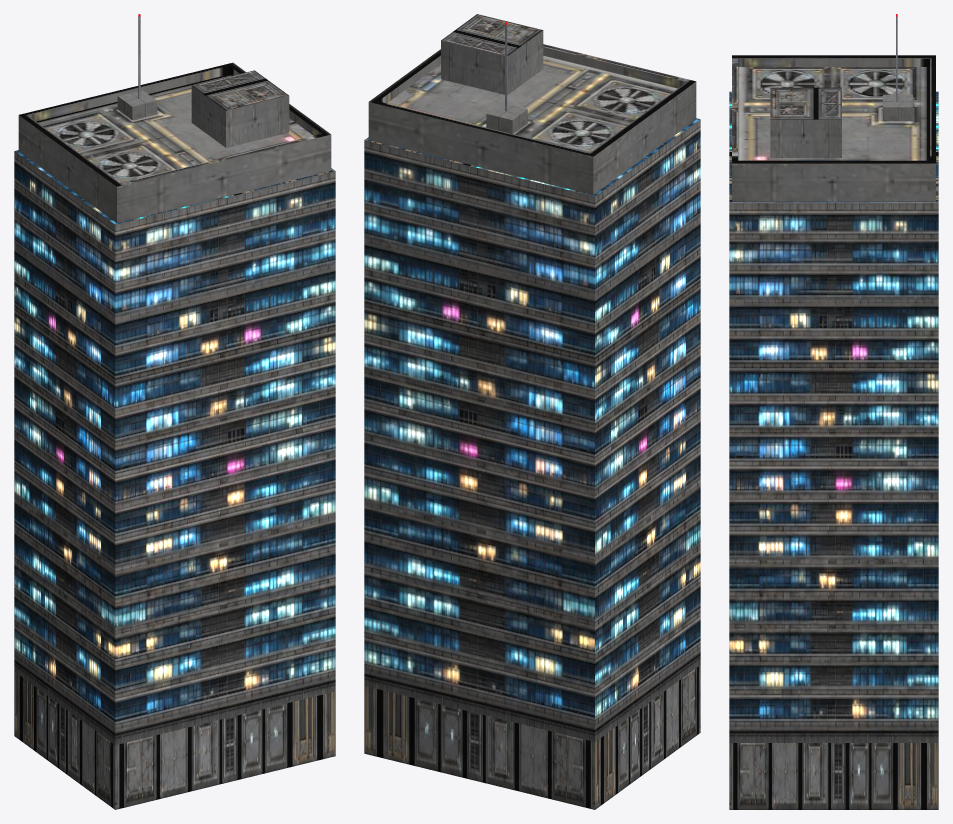
The model's file is 2026-commercial-building-15.glb.
The picture shows the model from 3 angles, left to right: view 1: azimuth 30°, elevation 25°; view 2: azimuth 150°, elevation 25°; view 3: azimuth 270°, elevation 25°; orthographic projection. The views are drawn at different scales.
Visible parts, largest first — view 1: 2026-commercial-building-15; view 2: 2026-commercial-building-15; view 3: 2026-commercial-building-15.
Part boxes in pixels (x1,y1,x2,y2): 2026-commercial-building-15: [14, 14, 335, 809]; 2026-commercial-building-15: [364, 14, 700, 809]; 2026-commercial-building-15: [729, 14, 938, 809].
Bounding box in the file's own units: 57.61 × 178 × 45.69.
2 materials, 1 textured.
